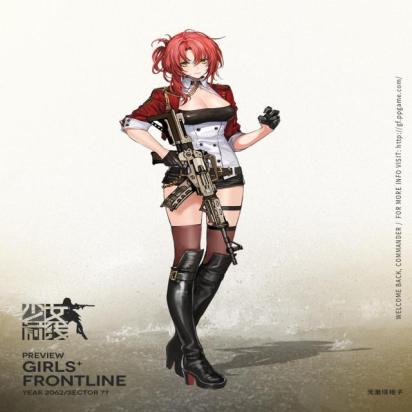Gun: (145, 109, 244, 266)
